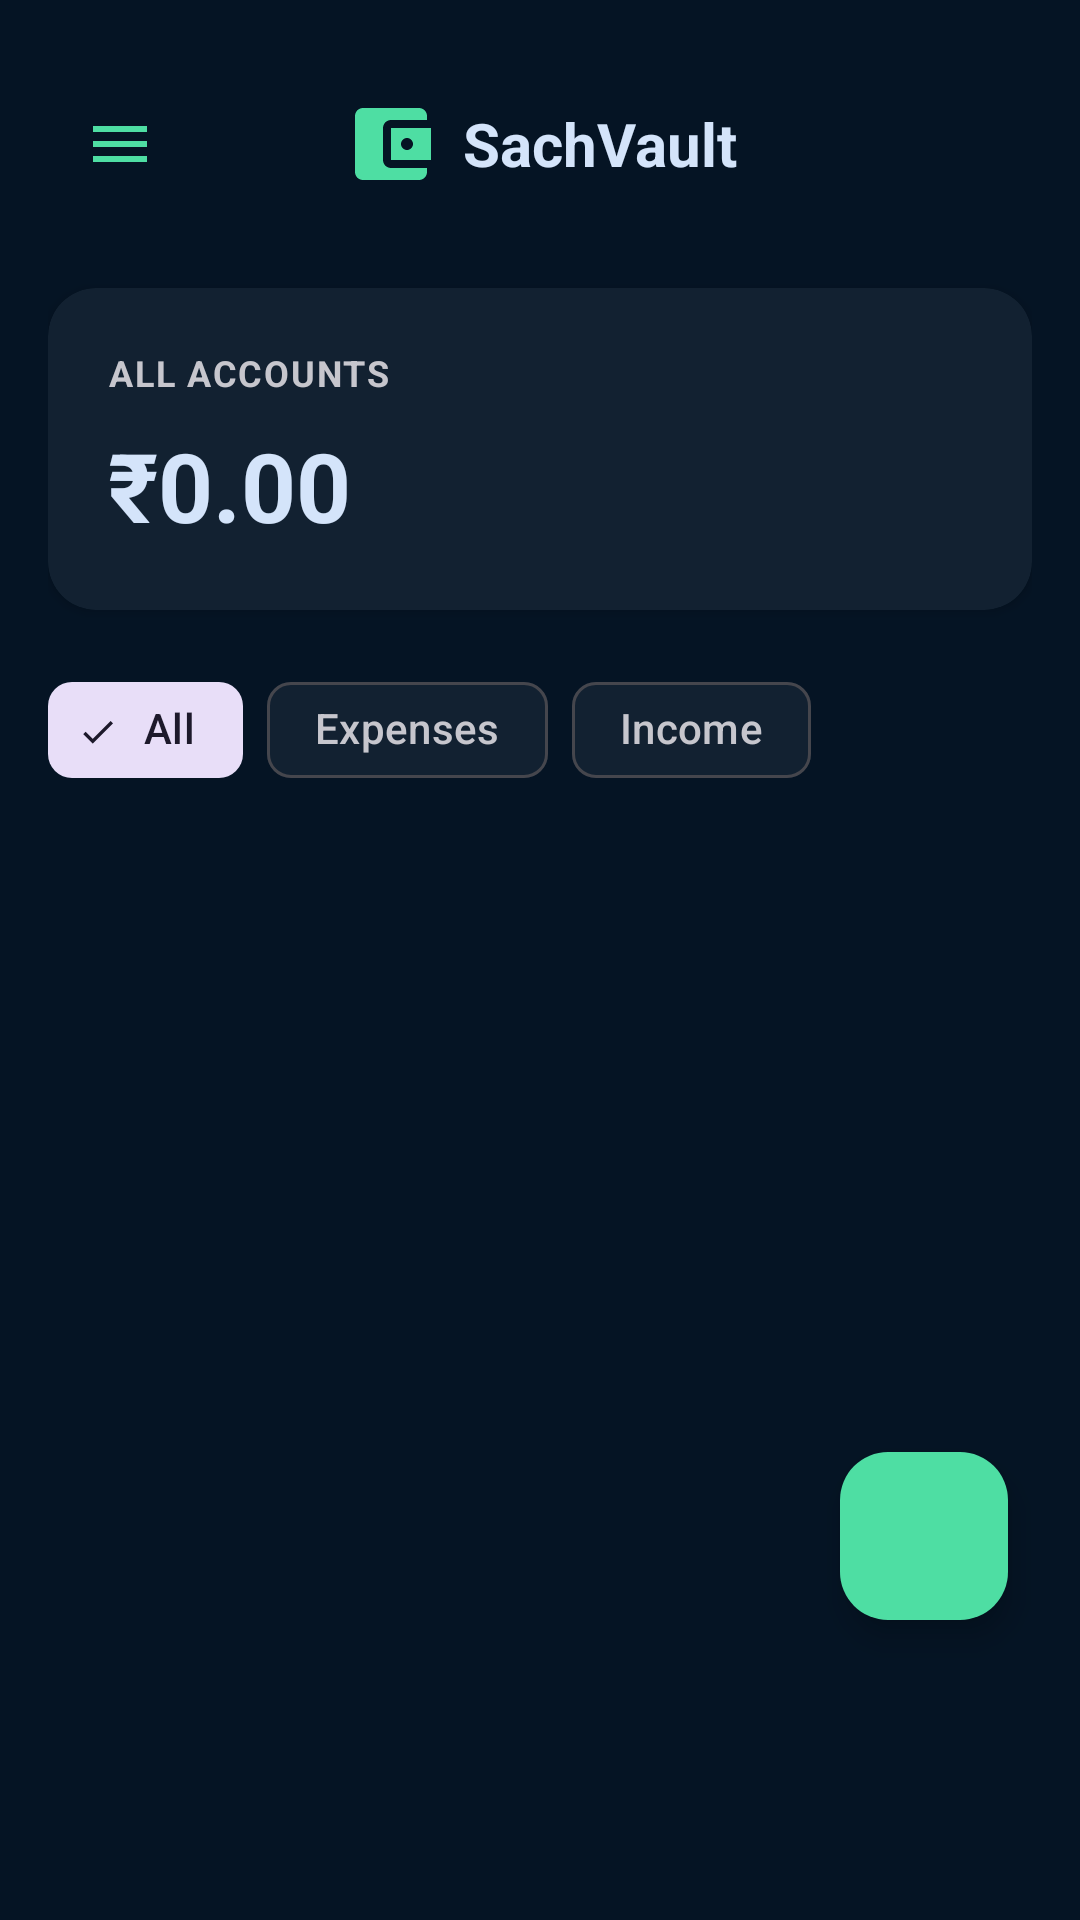

Icon click points for this 1080*1920 phone screenshot, format (x,y):
account balance wallet: (393,144)
Menu: (120,144)
